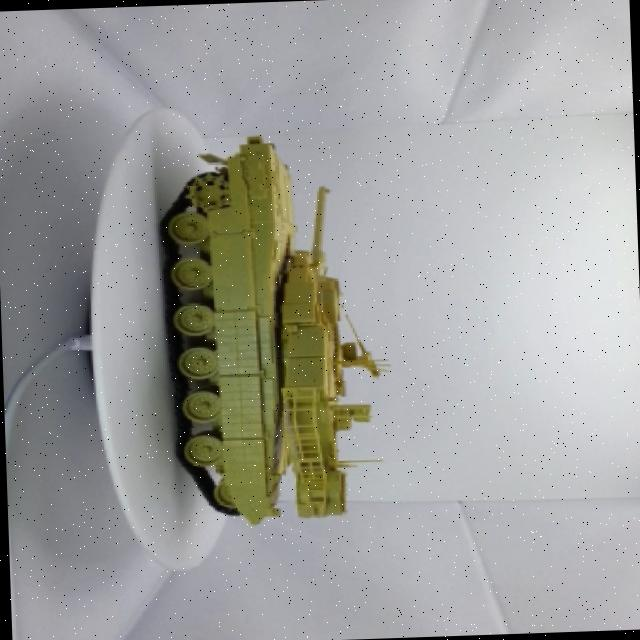korea tank: (136, 107, 403, 542)
